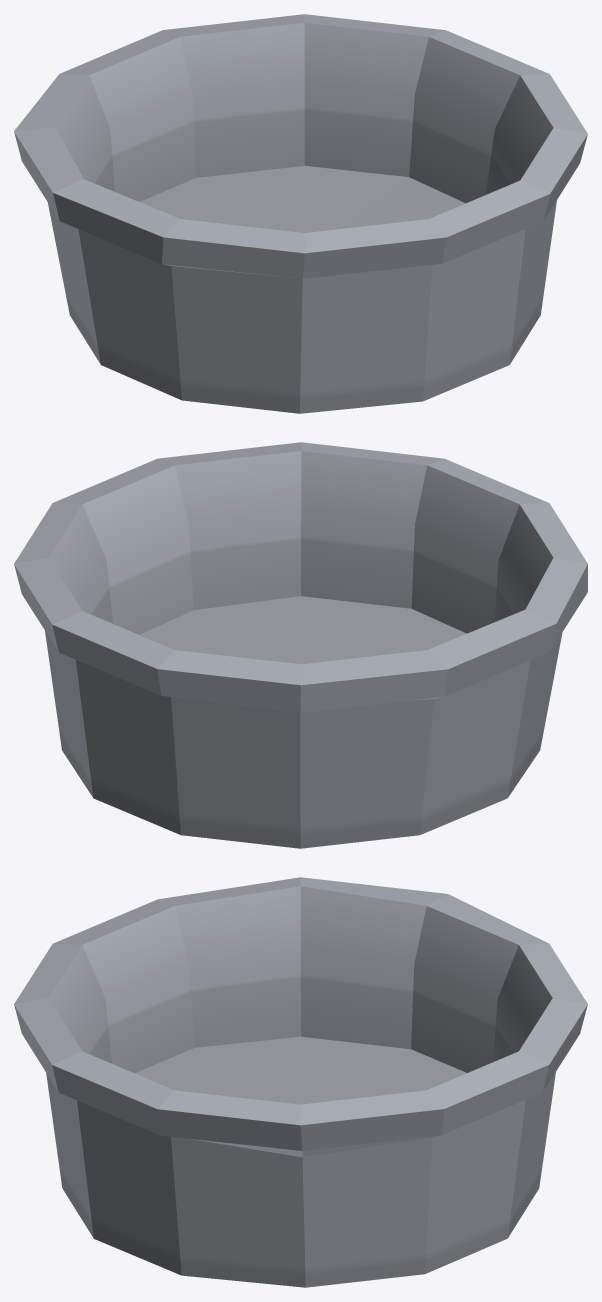
The model's file is SM_Prop_Pot_Large_03.glb.
The picture shows the model from 3 angles, top to bottom: view 1: azimuth 30°, elevation 25°; view 2: azimuth 150°, elevation 25°; view 3: azimuth 270°, elevation 25°; orthographic projection.
Parts seen in each view (by area): view 1: SM_Prop_Pot_Large_03; view 2: SM_Prop_Pot_Large_03; view 3: SM_Prop_Pot_Large_03.
Boxes of the visible parts, x1,y1,x2,y2 form: SM_Prop_Pot_Large_03: (14,14,587,413); SM_Prop_Pot_Large_03: (14,442,587,848); SM_Prop_Pot_Large_03: (14,877,587,1287).
Bounding box in the file's own units: 1.34 × 0.4913 × 1.33.
1 material, 1 textured.
